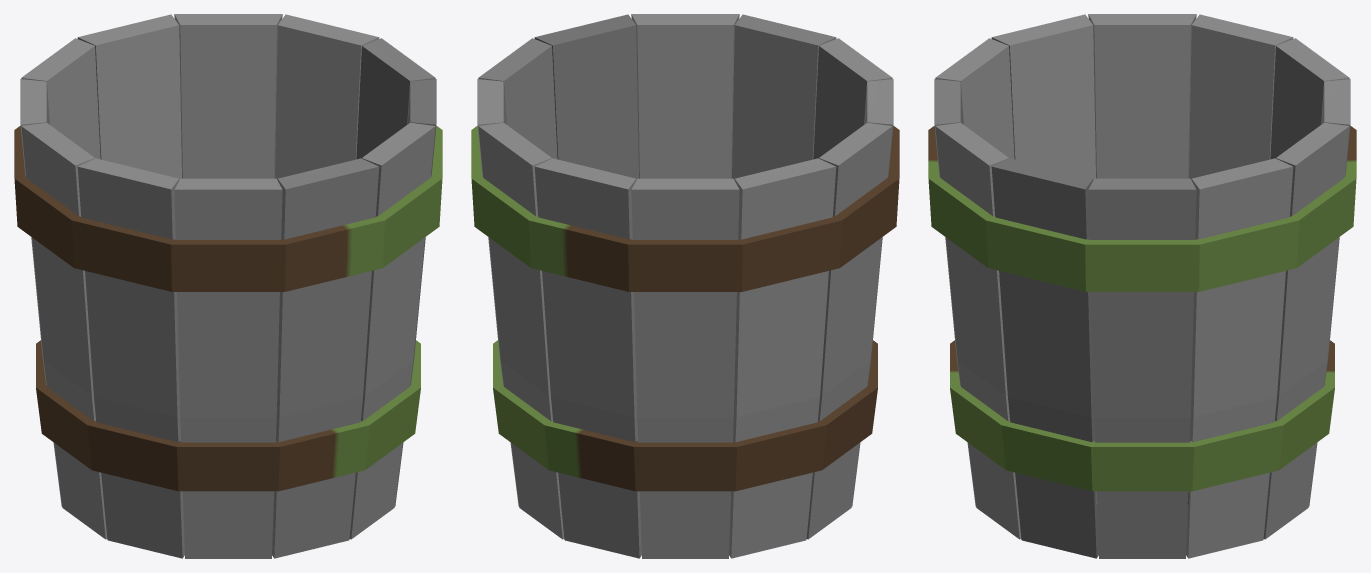
File: Bucket_01.fbx
The picture shows the model from 3 angles, left to right: view 1: azimuth 30°, elevation 25°; view 2: azimuth 150°, elevation 25°; view 3: azimuth 270°, elevation 25°; orthographic projection.
Visible parts, largest first — view 1: Bucket_01; view 2: Bucket_01; view 3: Bucket_01.
Part boxes in pixels (x1=…): Bucket_01: x1=14, y1=14, x2=442, y2=558; Bucket_01: x1=471, y1=14, x2=899, y2=558; Bucket_01: x1=928, y1=14, x2=1356, y2=558.
Bounding box in the file's own units: 43.37 × 43.22 × 43.37.
